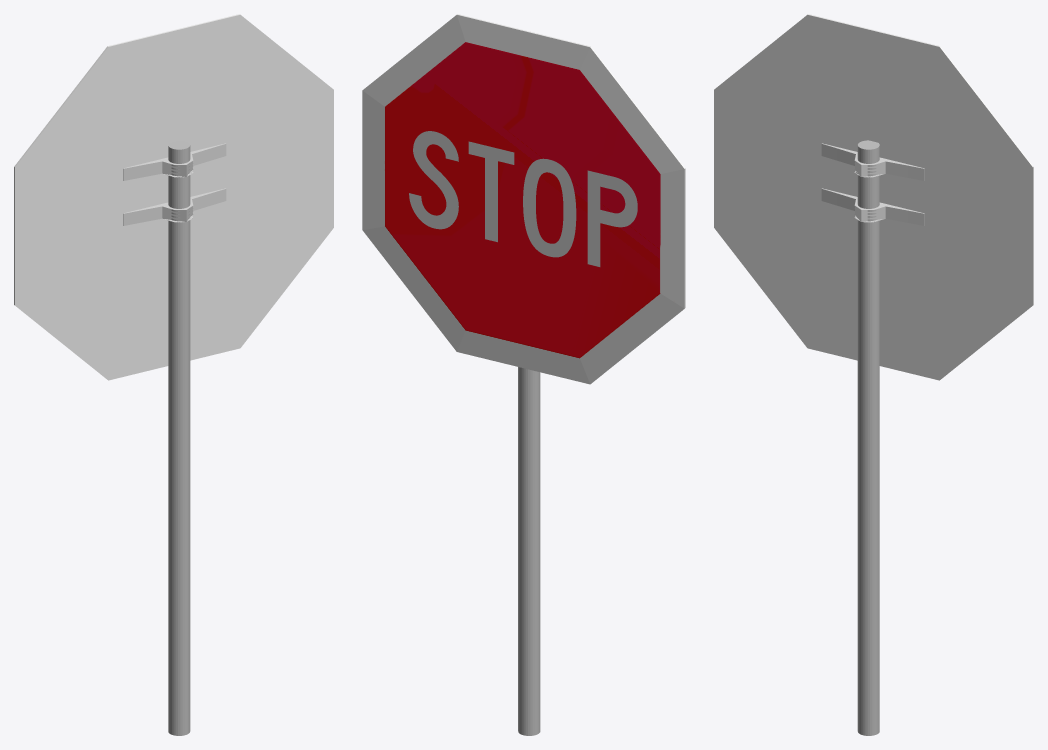
File: stop sign.fbx
3 renders of one model, left to right at view 1: azimuth 30°, elevation 25°; view 2: azimuth 150°, elevation 25°; view 3: azimuth 330°, elevation 25°, orthographic.
Visible parts, largest first — view 1: sign, Cylinder, Cube, Cube.001; view 2: sign, stop text, Cylinder; view 3: sign, Cylinder, Cube, Cube.001.
Part boxes in pixels (box(x1,y1,x2,y2)): sign: box(14, 14, 333, 380); Cylinder: box(168, 140, 190, 735); Cube: box(123, 143, 226, 180); Cube.001: box(123, 188, 226, 225); sign: box(362, 14, 685, 384); stop text: box(409, 131, 637, 266); Cylinder: box(518, 367, 540, 735); sign: box(714, 14, 1033, 380); Cylinder: box(857, 140, 879, 735); Cube: box(821, 143, 924, 180); Cube.001: box(821, 188, 924, 225).
Bounding box in the file's own units: 217 × 454 × 17.33.
